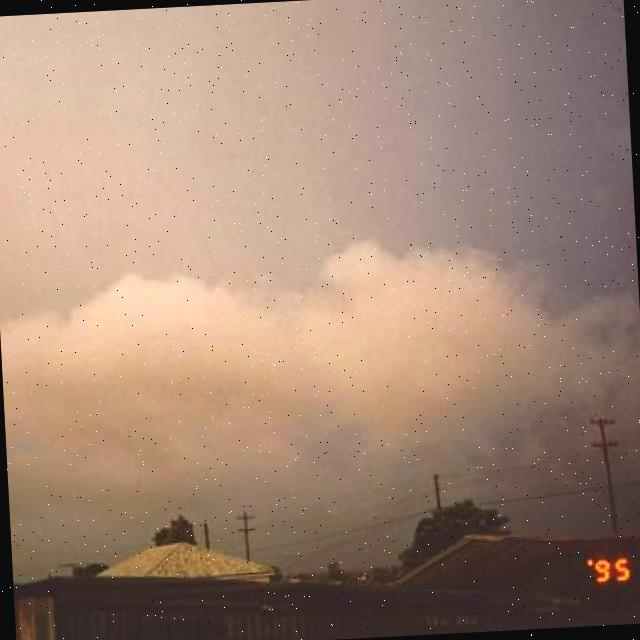St: (1, 55, 640, 429)
